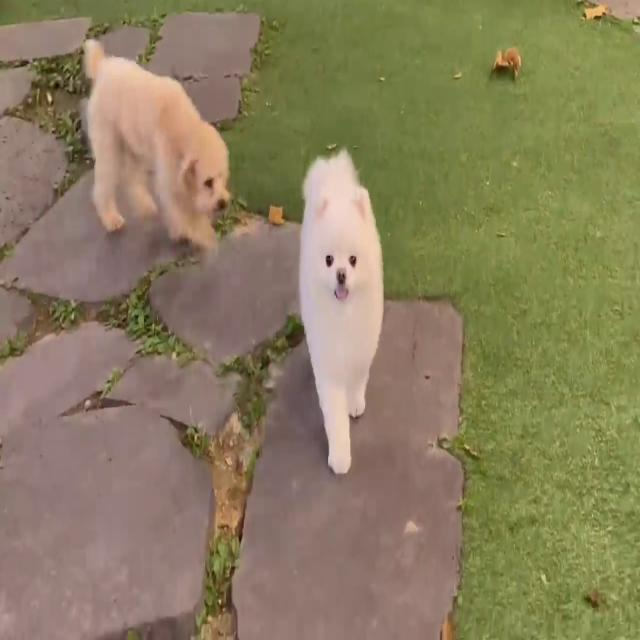Dog: (82, 38, 230, 252), (298, 148, 384, 474)
